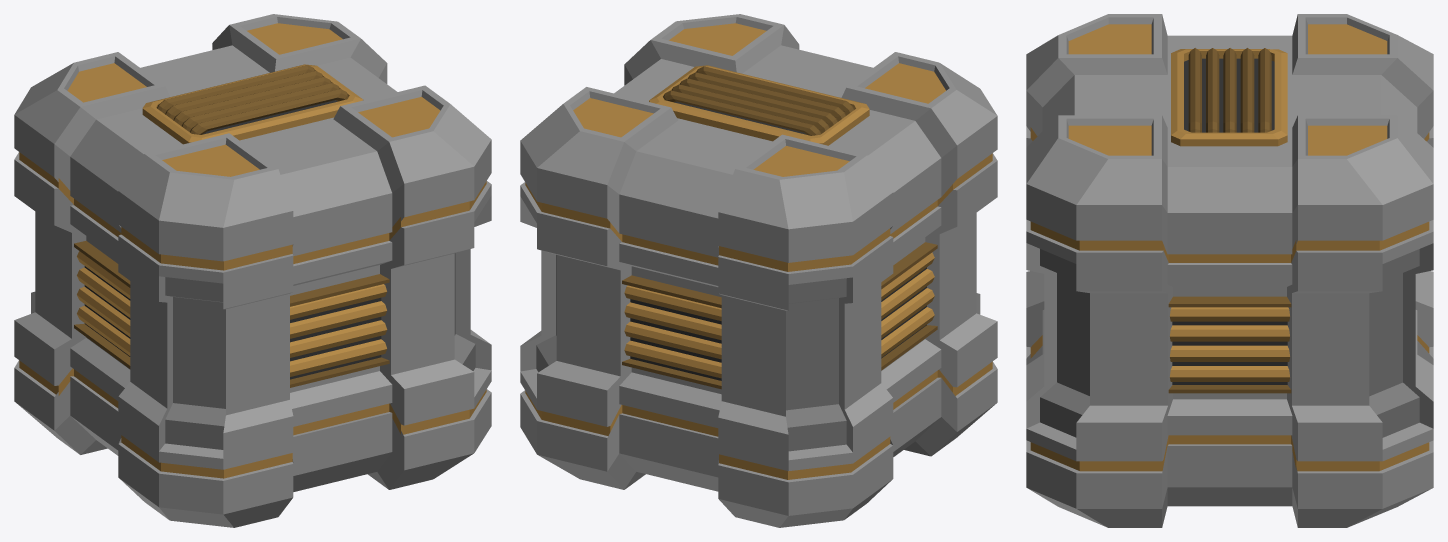
3 views of the same model, side by side, from view 1: azimuth 30°, elevation 25°; view 2: azimuth 150°, elevation 25°; view 3: azimuth 270°, elevation 25° (orthographic). The views are drawn at different scales.
Parts seen in each view (by area): view 1: Props_Crate; view 2: Props_Crate; view 3: Props_Crate.
Part boxes in pixels (box(x1,y1,x2,y2)): Props_Crate: box(14, 14, 491, 527); Props_Crate: box(520, 14, 997, 527); Props_Crate: box(1026, 14, 1433, 527).
Bounding box in the file's own units: 0.7971 × 0.8055 × 0.7971.
